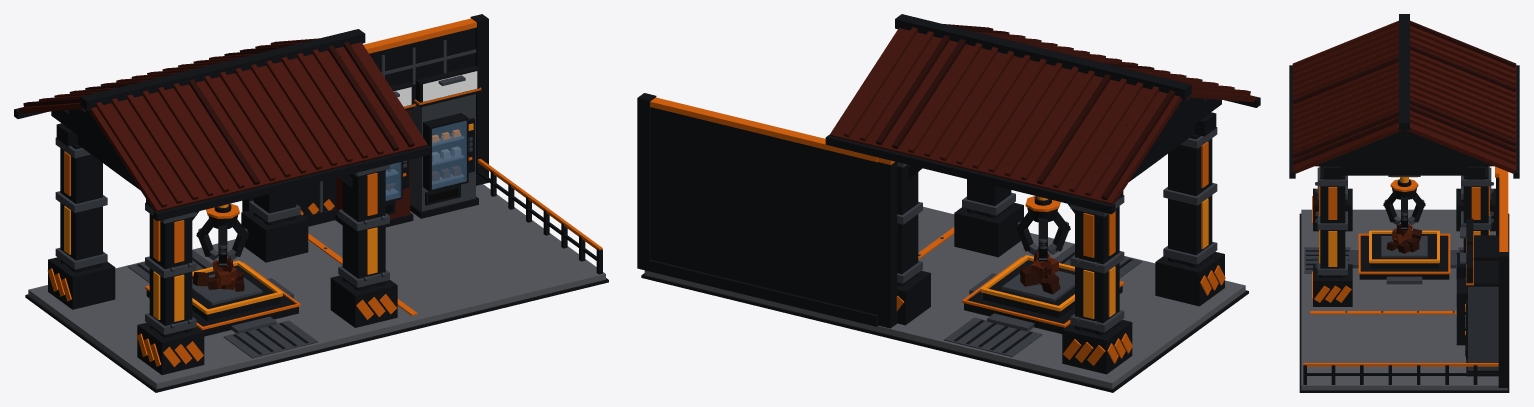
The model's file is scrap-dropper.obj.
The picture shows the model from 3 angles, left to right: view 1: azimuth 30°, elevation 25°; view 2: azimuth 150°, elevation 25°; view 3: azimuth 270°, elevation 25°; orthographic projection. The views are drawn at different scales.
Parts seen in each view (by area): view 1: roof_panels_rusty_metal, shop_platform_concrete, floor_concrete, roof_ribs_rusty_metal, pillar_shaft_metal_dark, pillar_base_metal_dark, roof_trim_metal_dark, shop_wall_connected_tall_metal_dark, pillar_collars_metal_light, vending_materials_metal_dark, roof_ribs_rusty_metal_dark, vending_materials_metal_light (+25 smaller); view 2: shop_wall_connected_tall_metal_dark, roof_panels_rusty_metal, floor_concrete, roof_ribs_rusty_metal, pillar_shaft_metal_dark, pillar_base_metal_dark, roof_trim_metal_dark, roof_ribs_rusty_metal_dark, pillar_collars_metal_light, spawn_pad_metal_dark, shop_wall_connected_tall_yellow_accent, floor_grates_metal_light (+14 smaller); view 3: roof_ribs_rusty_metal, shop_platform_concrete, roof_panels_rusty_metal, floor_concrete, roof_ribs_rusty_metal_dark, roof_gables_metal_dark, vending_materials_metal_light, pillar_shaft_metal_dark, spawn_pad_metal_dark, roof_trim_metal_dark, pillar_base_metal_dark, vending_materials_metal_dark (+21 smaller).
Boxes of the visible parts, <box> form: roof_panels_rusty_metal: <box>18,42,427,211</box>; shop_platform_concrete: <box>308,184,605,325</box>; floor_concrete: <box>28,239,417,389</box>; roof_ribs_rusty_metal: <box>39,38,383,207</box>; pillar_shaft_metal_dark: <box>60,144,385,337</box>; pillar_base_metal_dark: <box>48,210,397,374</box>; roof_trim_metal_dark: <box>14,29,431,221</box>; shop_wall_connected_tall_metal_dark: <box>242,14,488,226</box>; pillar_collars_metal_light: <box>55,137,389,334</box>; vending_materials_metal_dark: <box>410,66,479,218</box>; roof_ribs_rusty_metal_dark: <box>23,41,414,185</box>; vending_materials_metal_light: <box>410,94,475,211</box>; shop_wall_connected_tall_metal_dark: <box>637,93,897,328</box>; roof_panels_rusty_metal: <box>830,28,1256,204</box>; floor_concrete: <box>840,233,1245,388</box>; roof_ribs_rusty_metal: <box>843,27,1250,196</box>; pillar_shaft_metal_dark: <box>897,134,1212,335</box>; pillar_base_metal_dark: <box>897,202,1224,374</box>; roof_trim_metal_dark: <box>825,14,1260,214</box>; roof_ribs_rusty_metal_dark: <box>875,24,1174,200</box>; pillar_collars_metal_light: <box>897,127,1217,332</box>; spawn_pad_metal_dark: <box>964,260,1122,333</box>; shop_wall_connected_tall_yellow_accent: <box>650,97,894,164</box>; floor_grates_metal_light: <box>944,244,1142,356</box>; roof_ribs_rusty_metal: <box>1292,20,1516,164</box>; shop_platform_concrete: <box>1301,312,1507,390</box>; roof_panels_rusty_metal: <box>1292,25,1516,173</box>; floor_concrete: <box>1301,209,1495,311</box>; roof_ribs_rusty_metal_dark: <box>1292,20,1516,164</box>; roof_gables_metal_dark: <box>1307,35,1501,166</box>; vending_materials_metal_light: <box>1465,286,1498,370</box>; pillar_shaft_metal_dark: <box>1320,166,1488,277</box>; spawn_pad_metal_dark: <box>1359,234,1449,279</box>; roof_trim_metal_dark: <box>1289,14,1519,178</box>; pillar_base_metal_dark: <box>1313,188,1495,306</box>; vending_materials_metal_dark: <box>1456,244,1498,376</box>.
Bounding box in the file's own units: 24 × 12.24 × 12.85.
